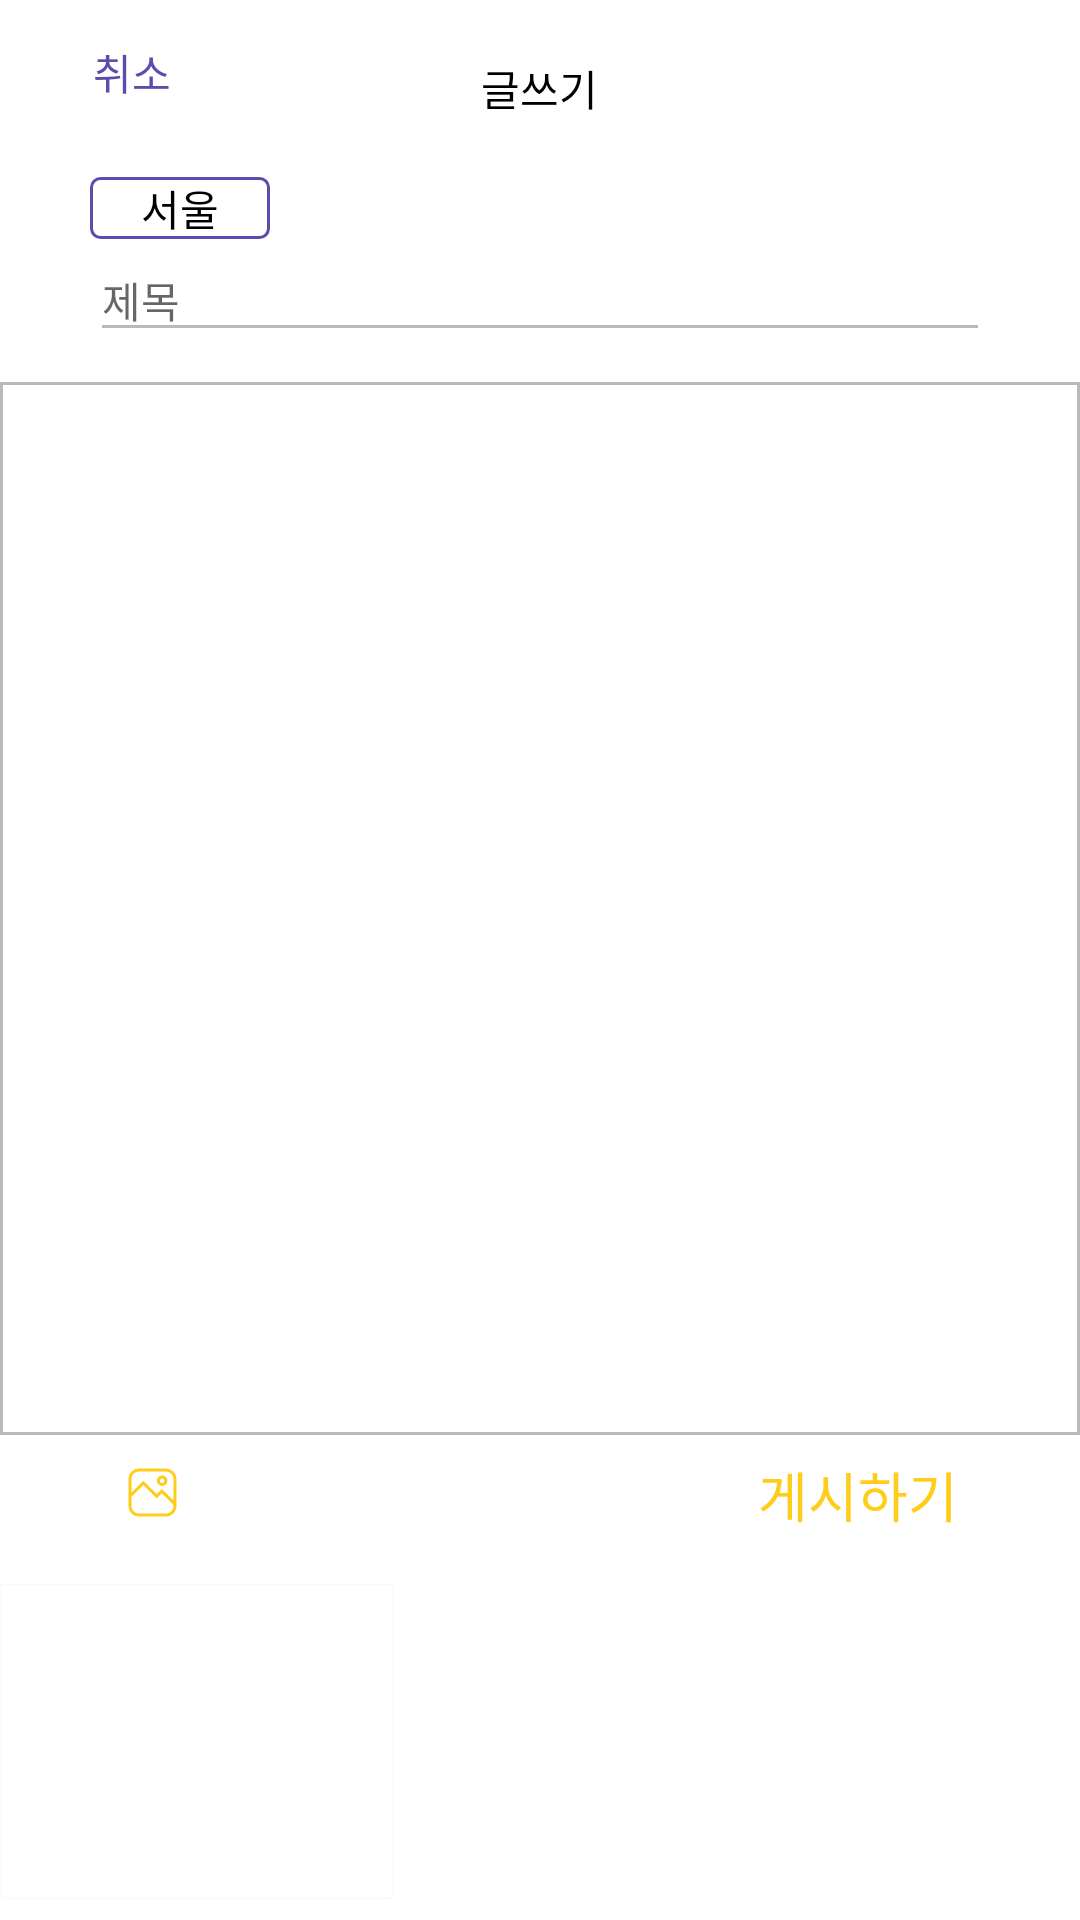

Locate icon controls on the screen. Image size 1080px x 1920px, boxes as (x1, y1, x2, y2).
writing imgicon: (128, 1468, 177, 1517)
